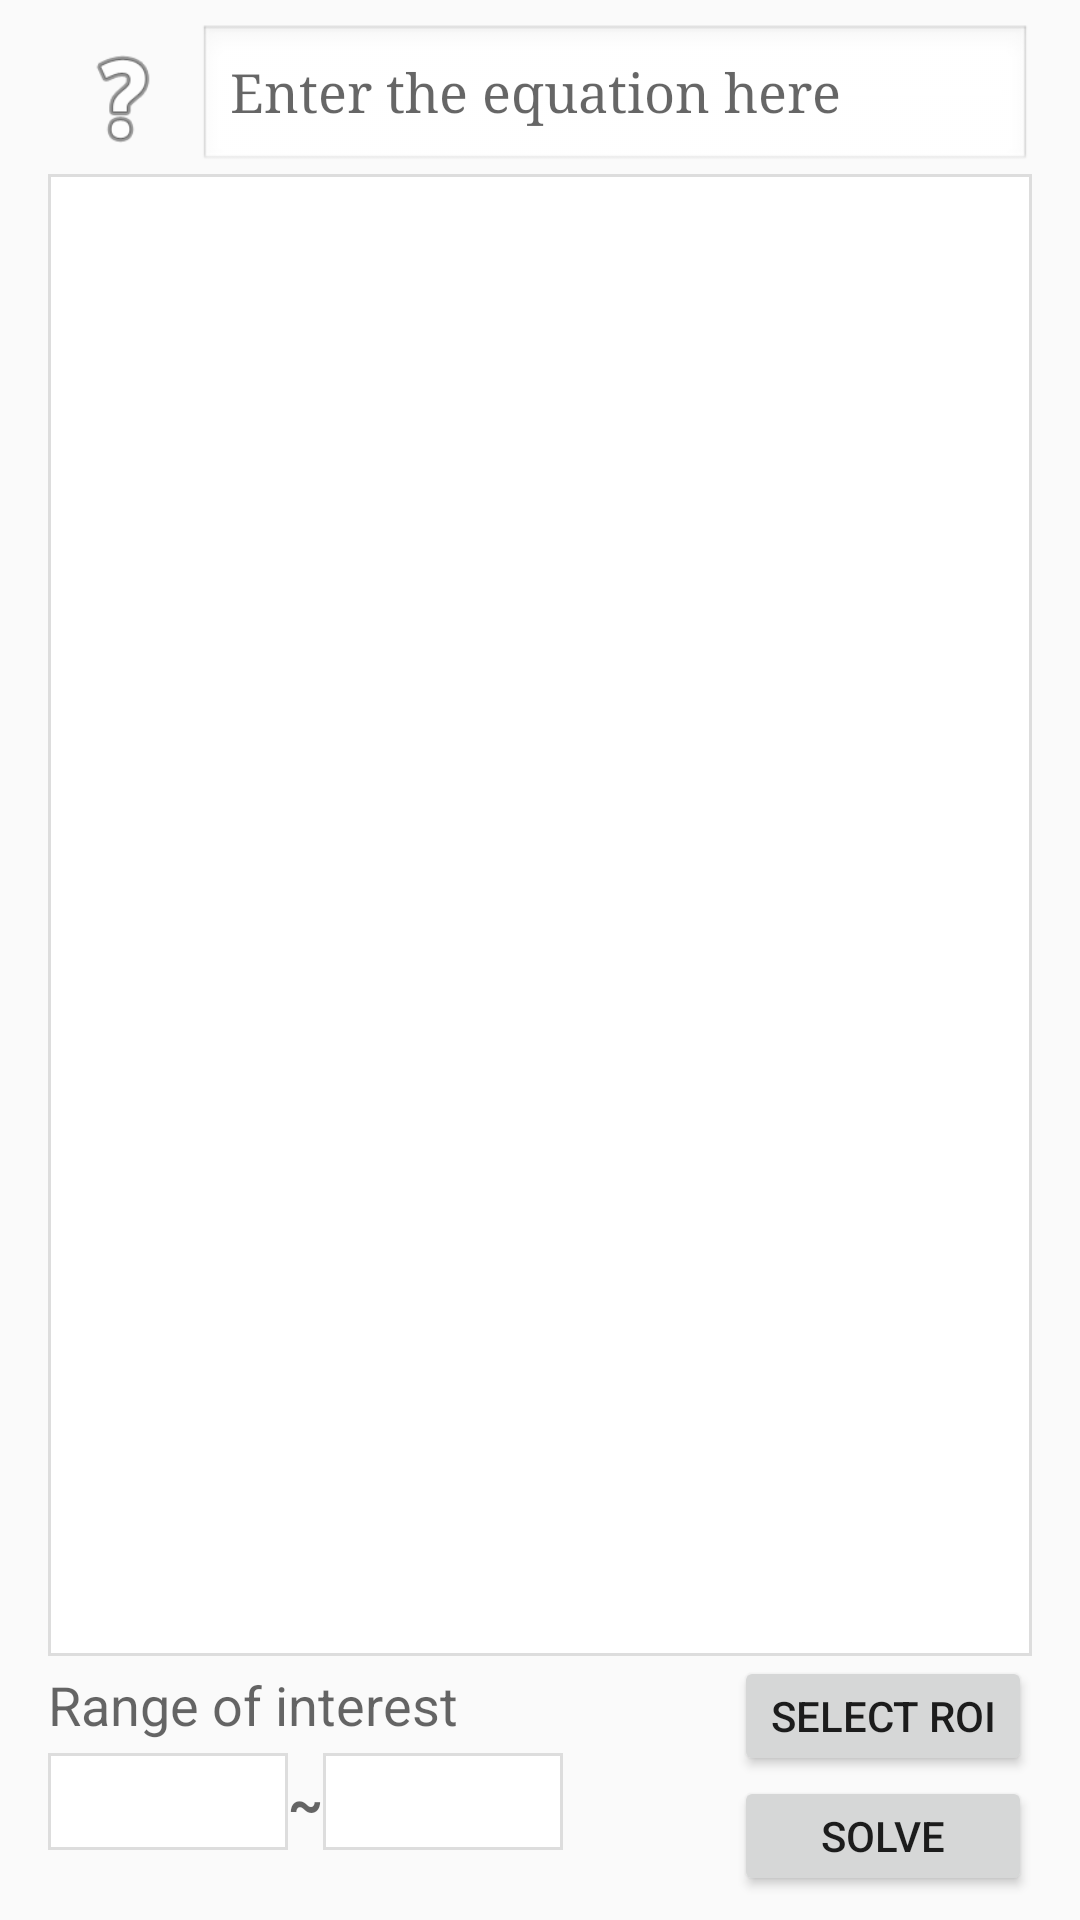

Icons on this 1080px x 1920px Android screen, each with its box as region(x1, y1, x2, y2):
help: region(97, 56, 149, 142)
